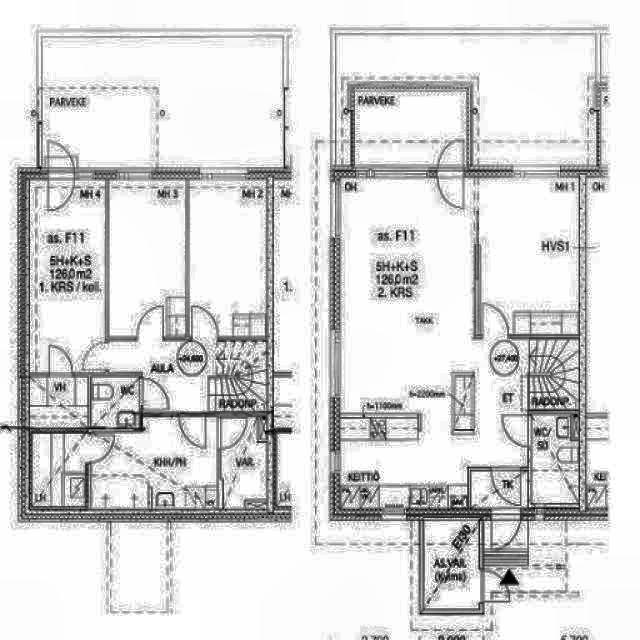room: (42, 36, 283, 169), (479, 178, 578, 334), (29, 180, 104, 372), (189, 180, 267, 336), (90, 416, 219, 509), (109, 180, 185, 336), (108, 341, 267, 414), (356, 91, 466, 169), (424, 521, 479, 609), (221, 418, 267, 508), (532, 415, 579, 502), (33, 434, 85, 505), (30, 378, 87, 427), (91, 378, 139, 427), (471, 472, 527, 507)
